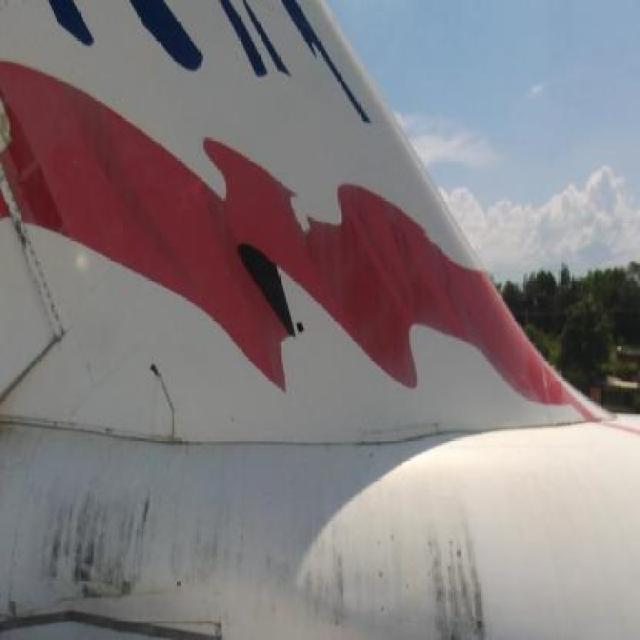Rust: (1, 418, 502, 632)
